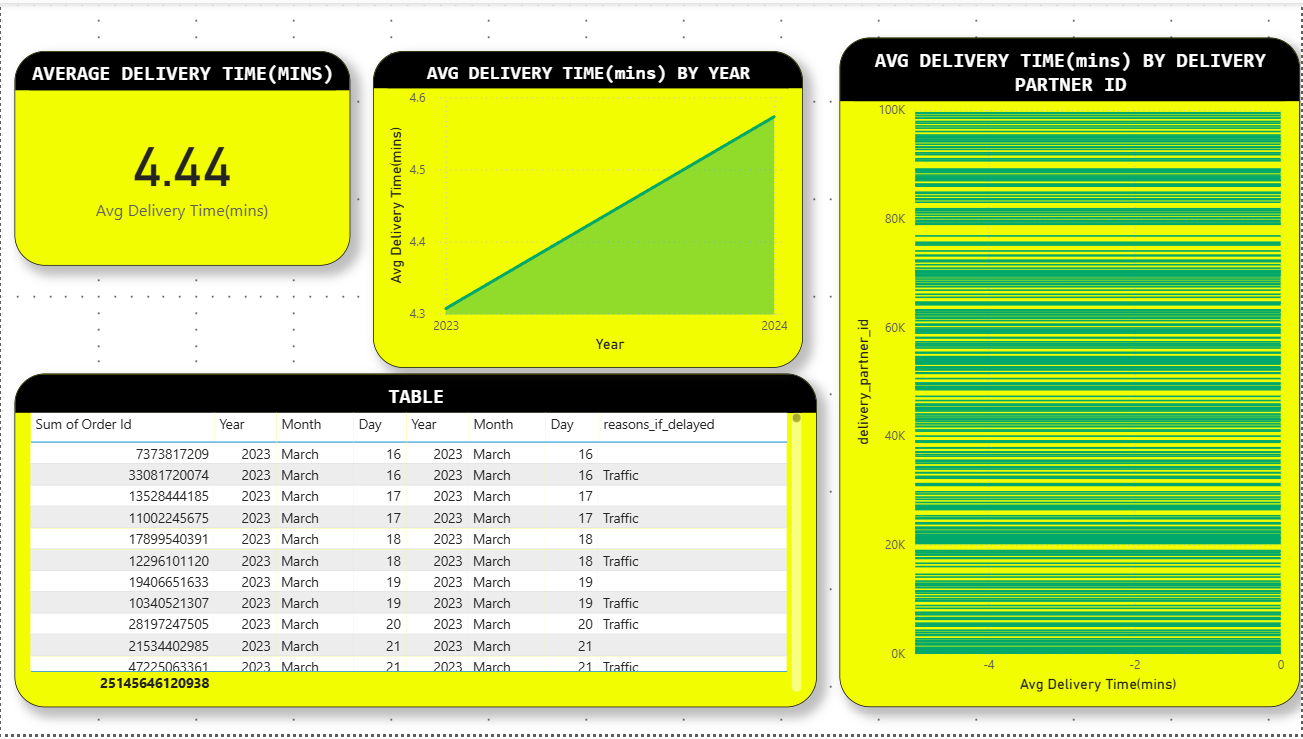

The page's visual inventory and layout, read from the dashboard file:
{"tool":"powerbi","page":{"name":"DELIVERY PERFORMANCE","canvas":[1280,720],"ordinal":3},"visuals":[{"type":"card","title":"AVERAGE DELIVERY TIME(MINS)","fields":{"Values":["blinkit_delivery_performance.Avg Delivery Time(mins)"]},"box":[13.2,47.2,330.7,211.7],"z":0},{"type":"clusteredBarChart","title":"AVG DELIVERY TIME(mins) BY DELIVERY PARTNER ID","fields":{"Category":["blinkit_delivery_performance.delivery_partner_id"],"Y":["blinkit_delivery_performance.Avg Delivery Time(mins)"]},"box":[825.8,34,453.5,659.5],"z":1000},{"type":"tableEx","title":"TABLE ","fields":{"Values":["Sum(blinkit_delivery_performance.order_id)","blinkit_delivery_performance.promised_time.Variation.Date Hierarchy.Year","blinkit_delivery_performance.promised_time.Variation.Date Hierarchy.Month","blinkit_delivery_performance.promised_time.Variation.Date Hierarchy.Day","blinkit_delivery_performance.actual_time.Variation.Date Hierarchy.Year","blinkit_delivery_performance.actual_time.Variation.Date Hierarchy.Month","blinkit_delivery_performance.actual_time.Variation.Date Hierarchy.Day","blinkit_delivery_performance.reasons_if_delayed"]},"box":[13.2,364.7,789.9,328.8],"z":2000},{"type":"areaChart","title":"AVG DELIVERY TIME(mins) BY YEAR","fields":{"Category":["blinkit_delivery_performance.actual_time.Variation.Date Hierarchy.Year","blinkit_delivery_performance.actual_time.Variation.Date Hierarchy.Quarter","blinkit_delivery_performance.actual_time.Variation.Date Hierarchy.Month","blinkit_delivery_performance.actual_time.Variation.Date Hierarchy.Day"],"Y":["blinkit_delivery_performance.Avg Delivery Time(mins)"]},"box":[366.6,47.2,423.3,311.8],"z":3000}]}

Visuals, with their boxes in screenshot pixels (x1, y1, x2, y2), scaled from the page's 1280x720 canvas onto the 1303x739 screenshot:
"AVERAGE DELIVERY TIME(MINS)" card: 13,48,350,266
"AVG DELIVERY TIME(mins) BY DELIVERY PARTNER ID" clusteredBarChart: 841,35,1302,712
"TABLE " tableEx: 13,374,818,712
"AVG DELIVERY TIME(mins) BY YEAR" areaChart: 373,48,804,368
